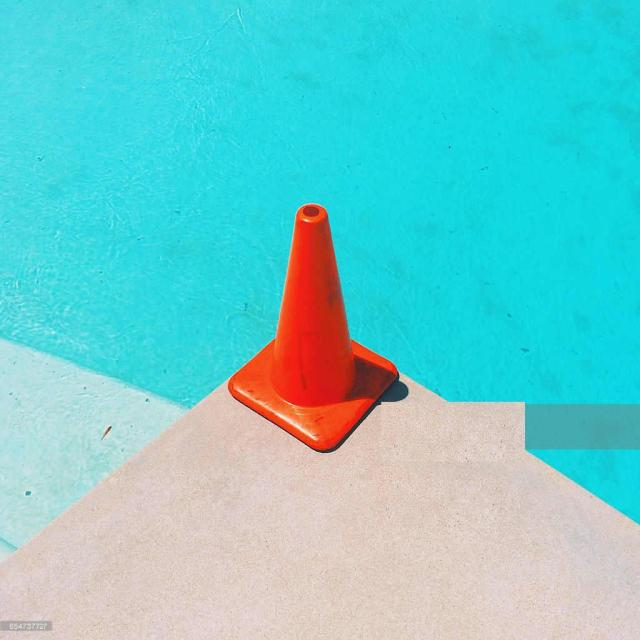Cone: (228, 203, 403, 458)
